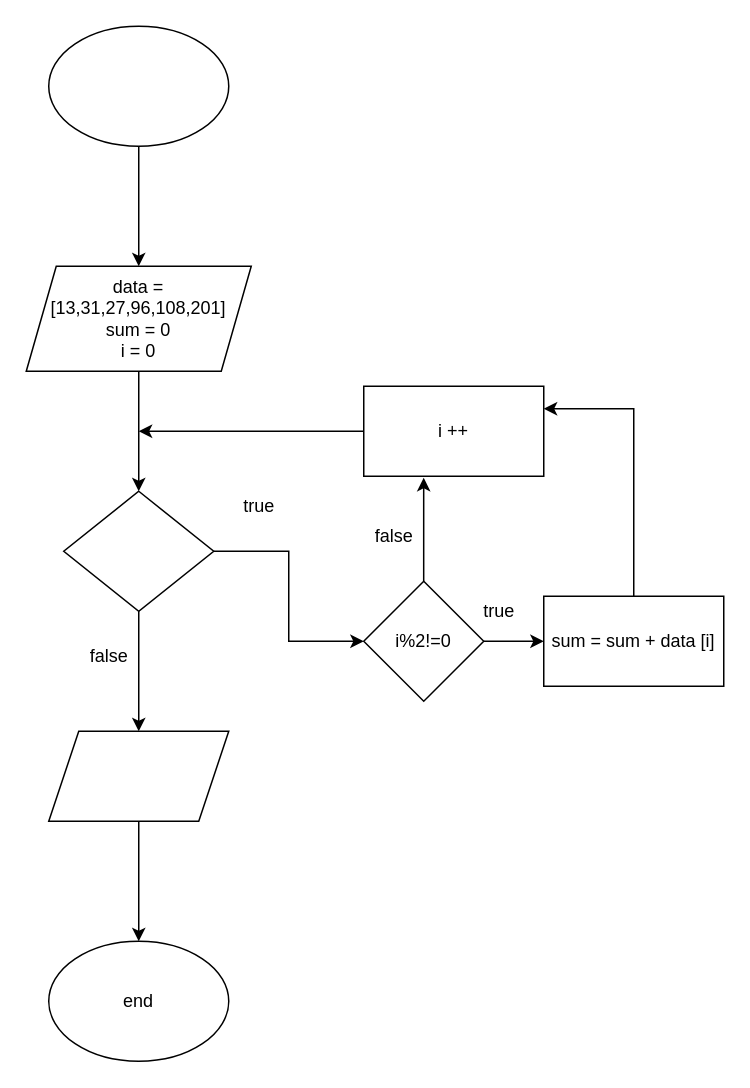
The diagram is 750 pixels wide and 1088 high, and some of its shapes have lost their labels. The shapes that lost their labels are listed below. From the top down, each one's centre as x and y in pixels, then its label:
At pixel 138 85: "start".
At pixel 138 550: "i< data.length".
At pixel 138 775: "print sum".
